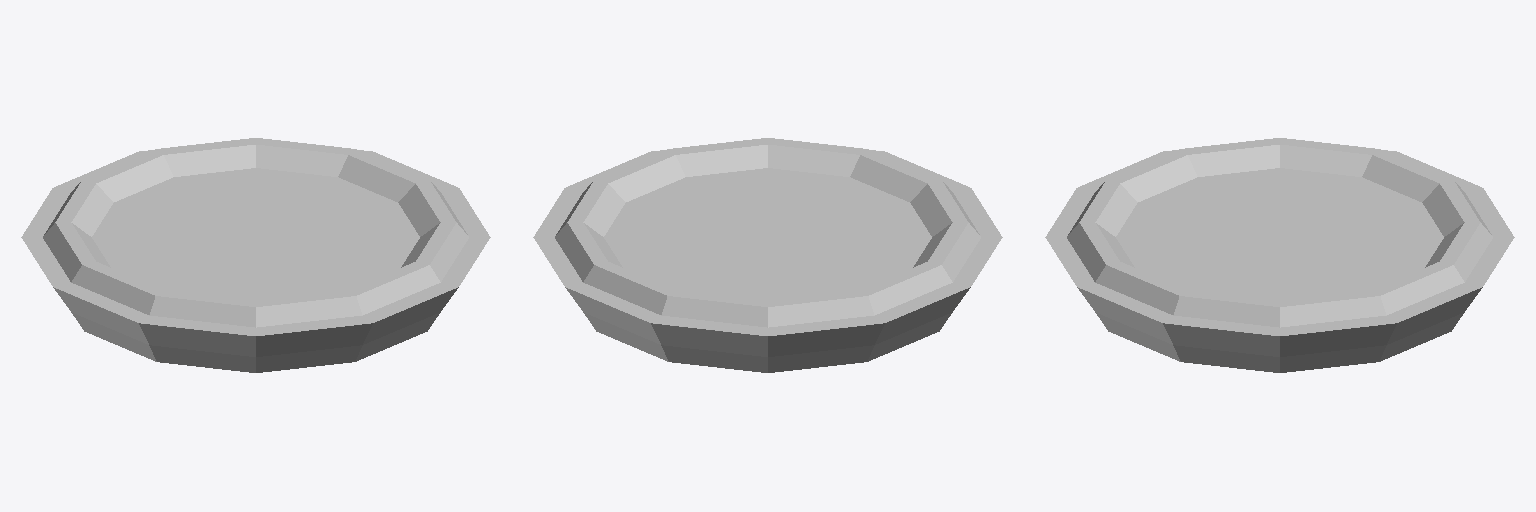
The model's file is pie.obj.
3 views of the same model, side by side, from view 1: azimuth 30°, elevation 25°; view 2: azimuth 150°, elevation 25°; view 3: azimuth 270°, elevation 25° (orthographic).
Visible parts, largest first — view 1: pie; view 2: pie; view 3: pie.
Boxes of the visible parts, x1,y1,x2,y2 form: pie: [21, 138, 490, 372]; pie: [533, 138, 1002, 372]; pie: [1045, 138, 1514, 372].
Size of the model in its own units: 0.9504 by 0.1497 by 0.9504.